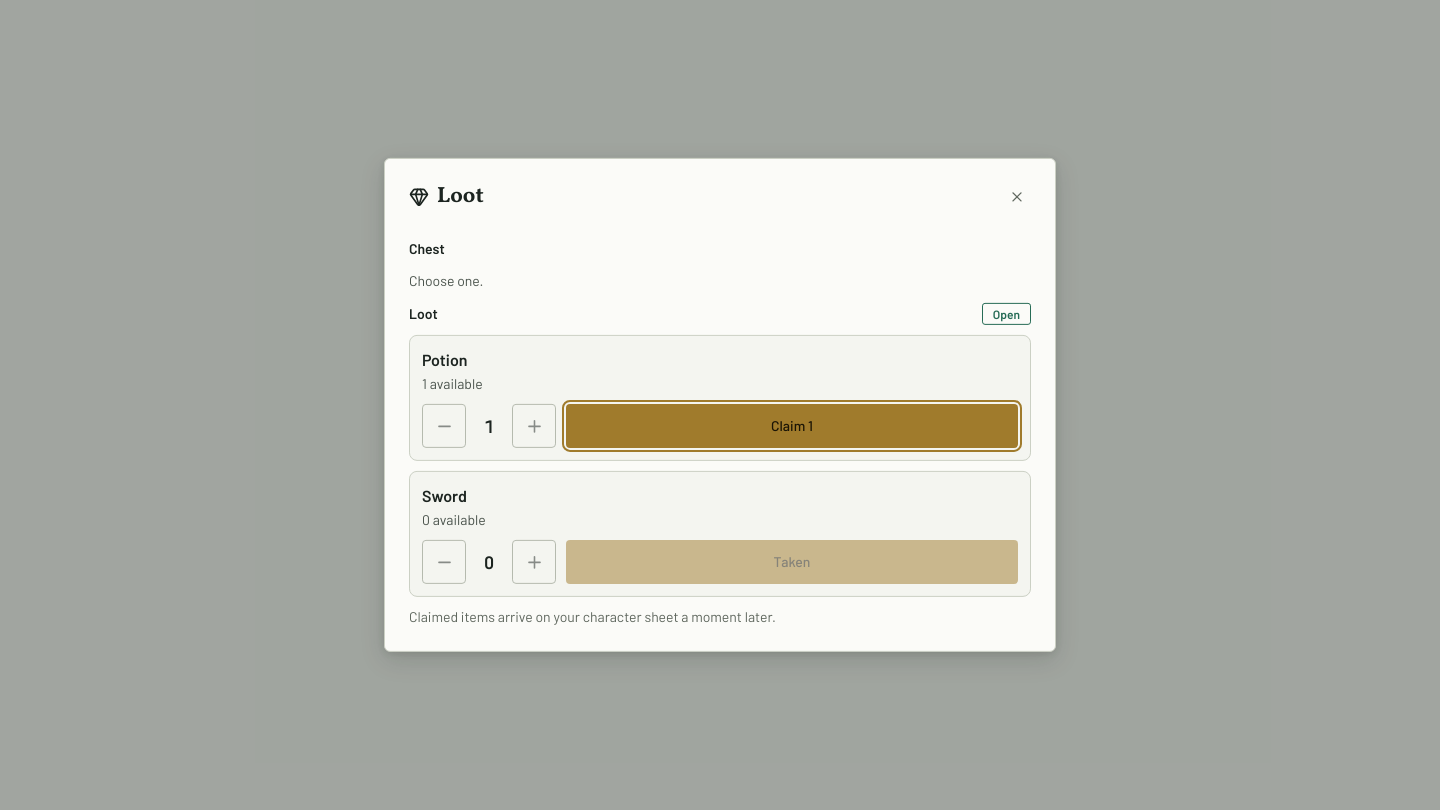
Test: MarkerDetailPanel › lets a player claim available loot and disables depleted entries
This screenshot has width=1440, height=810.
Expected: the button "Taken" is disabled, [566, 540, 1018, 584]
Click the button "Claim 1" at (792, 426), box [566, 404, 1018, 448]
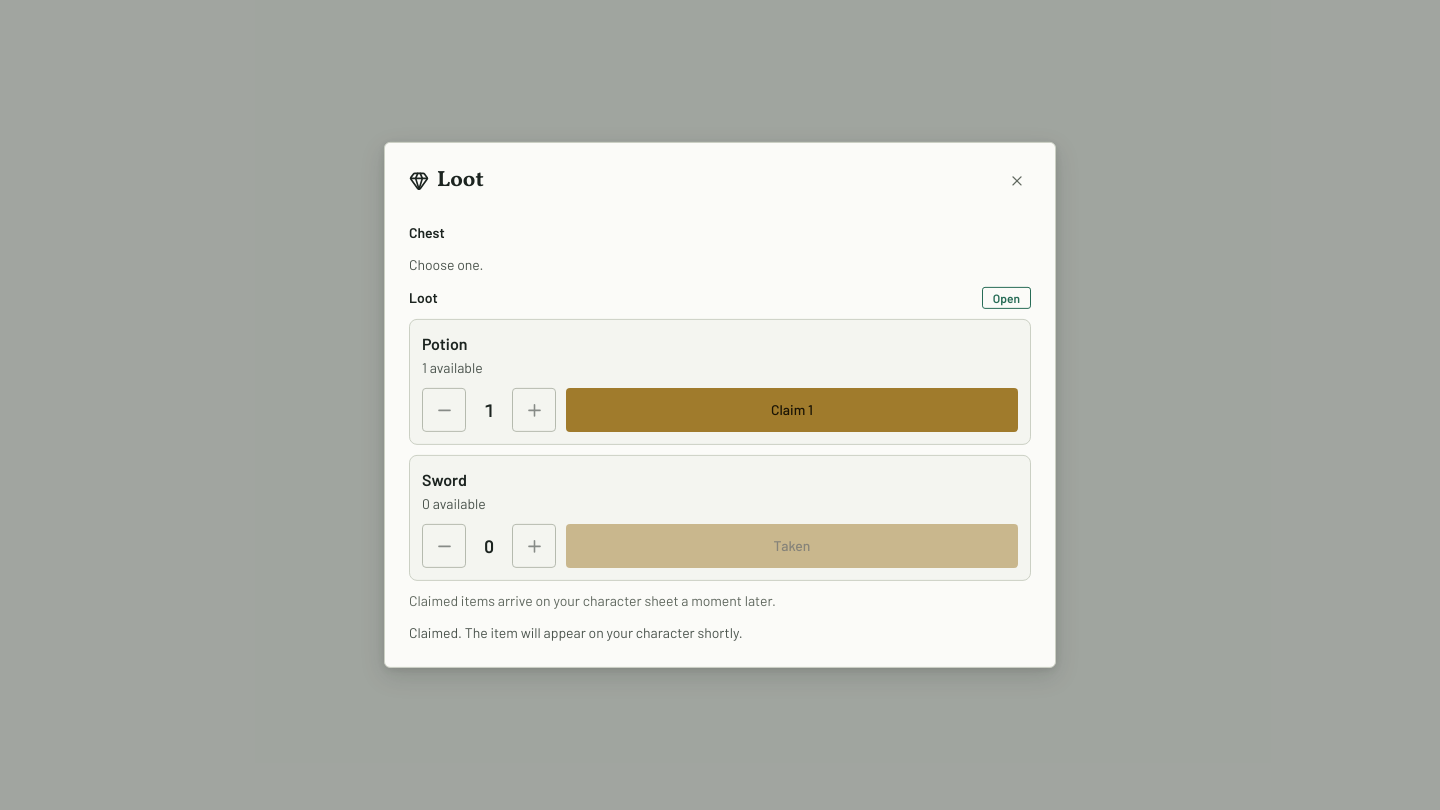
Result: the message shows "Claimed" at [409, 624, 743, 641]
